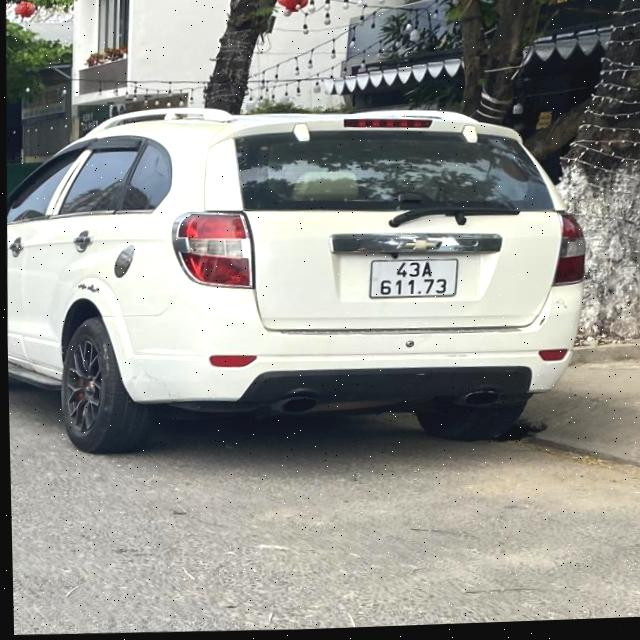car: (2, 83, 589, 471)
plate: (363, 247, 467, 307)
